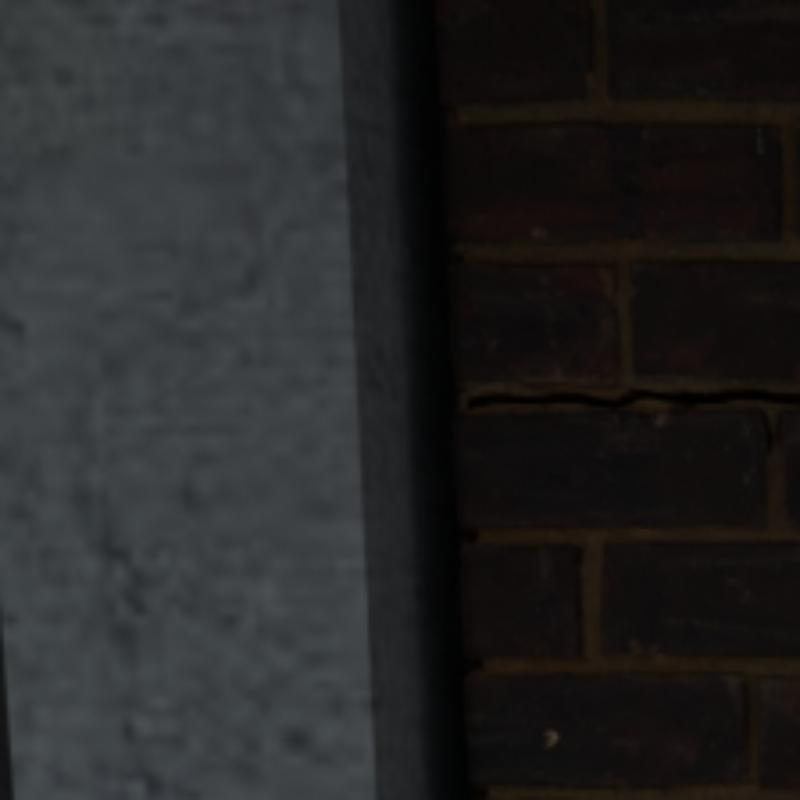crack: (468, 389, 796, 407)
